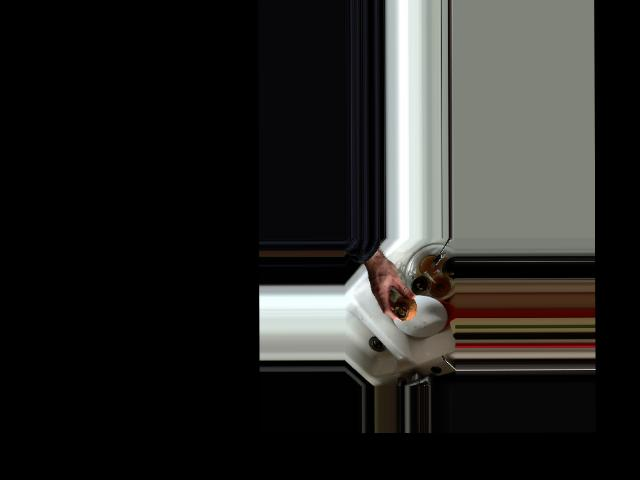sweet_potato: (392, 290, 417, 322)
